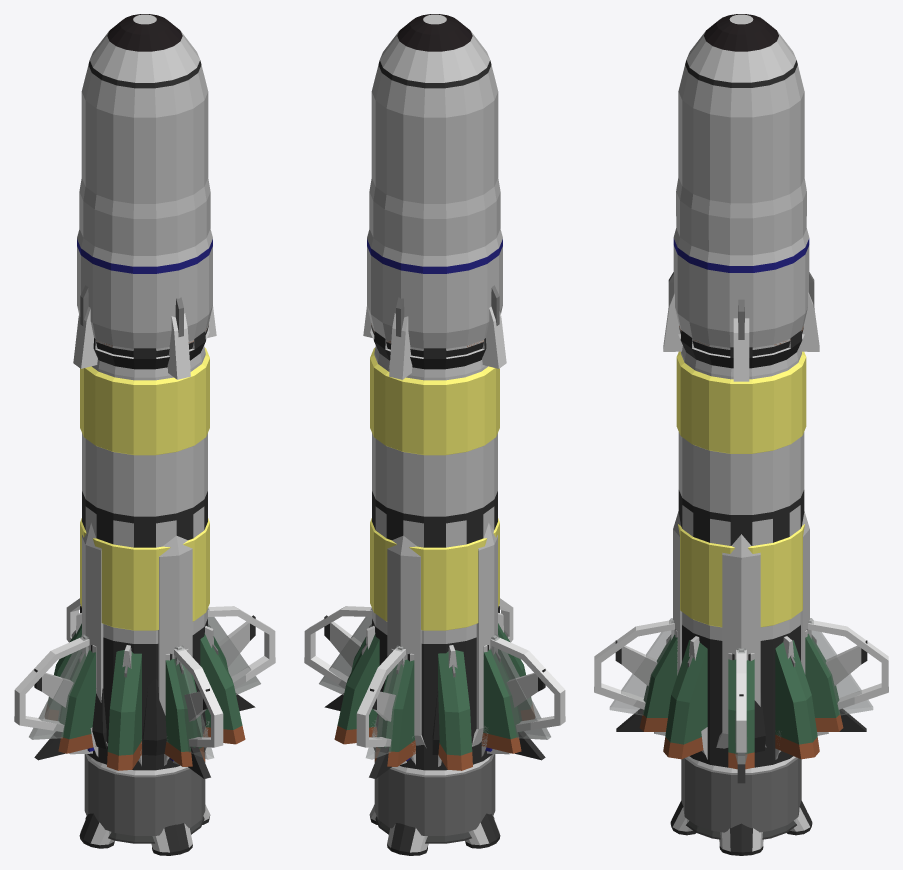
Rendered from rocketBlank_2.fbx.
3 views of the same model, side by side, from view 1: azimuth 30°, elevation 25°; view 2: azimuth 150°, elevation 25°; view 3: azimuth 270°, elevation 25° (orthographic).
Parts seen in each view (by area): view 1: Deflector_7, Tank_9, Tank_2, Plumage_5, Deflector_3, Tank_12, Engine_8, Deflector_6, Plumage_12, Plumage, Plumage_7, Plumage_11 (+8 smaller); view 2: Deflector_7, Tank_9, Tank_2, Plumage_5, Deflector_3, Tank_12, Engine_8, Deflector_6, Plumage_12, Plumage, Plumage_11, Engine_11 (+7 smaller); view 3: Deflector_7, Tank_2, Tank_9, Plumage_5, Deflector_3, Tank_12, Engine_8, Deflector_6, Plumage_12, Plumage, Engine_11, Plumage_11 (+7 smaller).
Boxes of the visible parts, x1,y1,x2,y2 form: Deflector_7: (81,14,208,203); Tank_9: (80,348,209,630); Tank_2: (82,433,207,770); Plumage_5: (45,623,245,770); Deflector_3: (77,229,212,348); Tank_12: (82,345,205,746); Engine_8: (84,752,205,843); Deflector_6: (79,178,210,255); Plumage_12: (14,598,275,747); Plumage: (29,608,260,759); Plumage_7: (92,678,206,755); Plumage_11: (34,606,255,721); Deflector_7: (371,14,498,203); Tank_9: (370,348,499,630); Tank_2: (372,433,497,770); Plumage_5: (334,623,534,770); Deflector_3: (367,229,502,348); Tank_12: (374,345,497,748); Engine_8: (374,752,495,843); Deflector_6: (369,178,500,255); Plumage_12: (304,598,565,747); Plumage: (319,608,550,759); Plumage_11: (324,606,545,721); Engine_11: (369,804,500,855); Deflector_7: (678,14,804,203); Tank_2: (678,432,804,767); Tank_9: (676,351,806,627); Plumage_5: (639,633,843,769); Deflector_3: (673,228,809,347); Tank_12: (673,346,809,748); Engine_8: (681,757,801,839); Deflector_6: (676,177,806,255); Plumage_12: (594,620,888,752); Plumage: (609,618,873,764); Engine_11: (670,801,812,855); Plumage_11: (615,640,867,696).
Size of the model in its own units: 501 by 1514 by 501.
